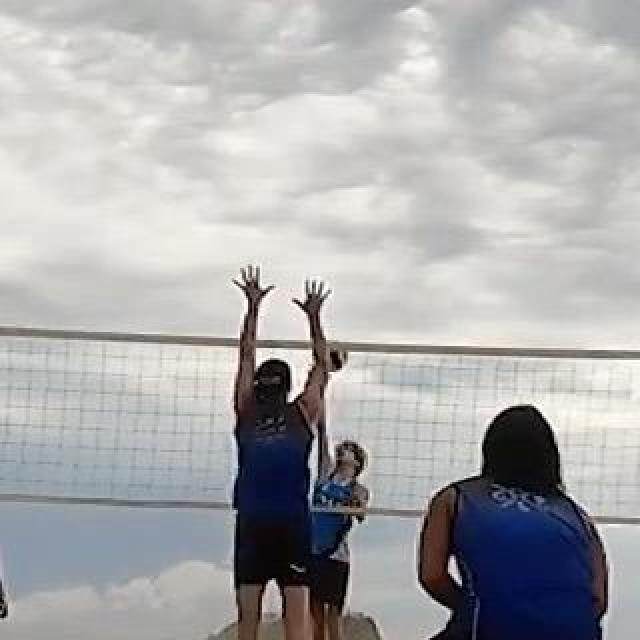volleyball: (316, 340, 348, 372)
